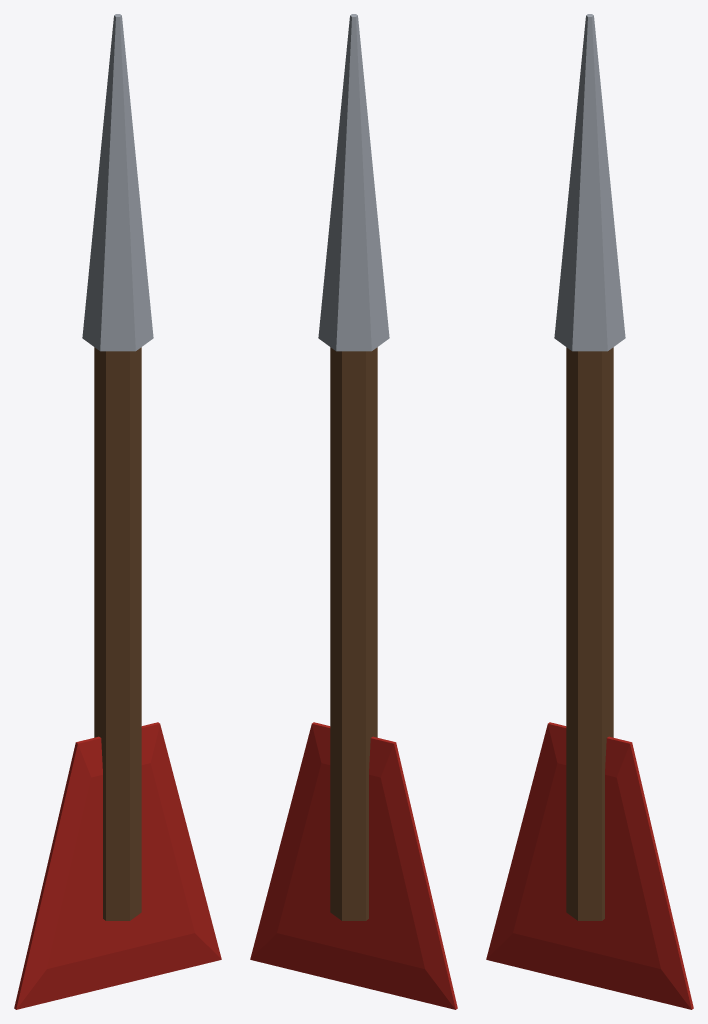
File: g-dart.glb
3 views of the same model, side by side, from view 1: azimuth 30°, elevation 25°; view 2: azimuth 150°, elevation 25°; view 3: azimuth 330°, elevation 25° (orthographic).
Visible parts, largest first — view 1: g-dart; view 2: g-dart; view 3: g-dart.
Boxes of the visible parts, <box> form: g-dart: <box>14,14,221,1009</box>; g-dart: <box>250,14,457,1009</box>; g-dart: <box>486,14,693,1009</box>.
Size of the model in its own units: 0.06 by 0.27 by 0.018.
